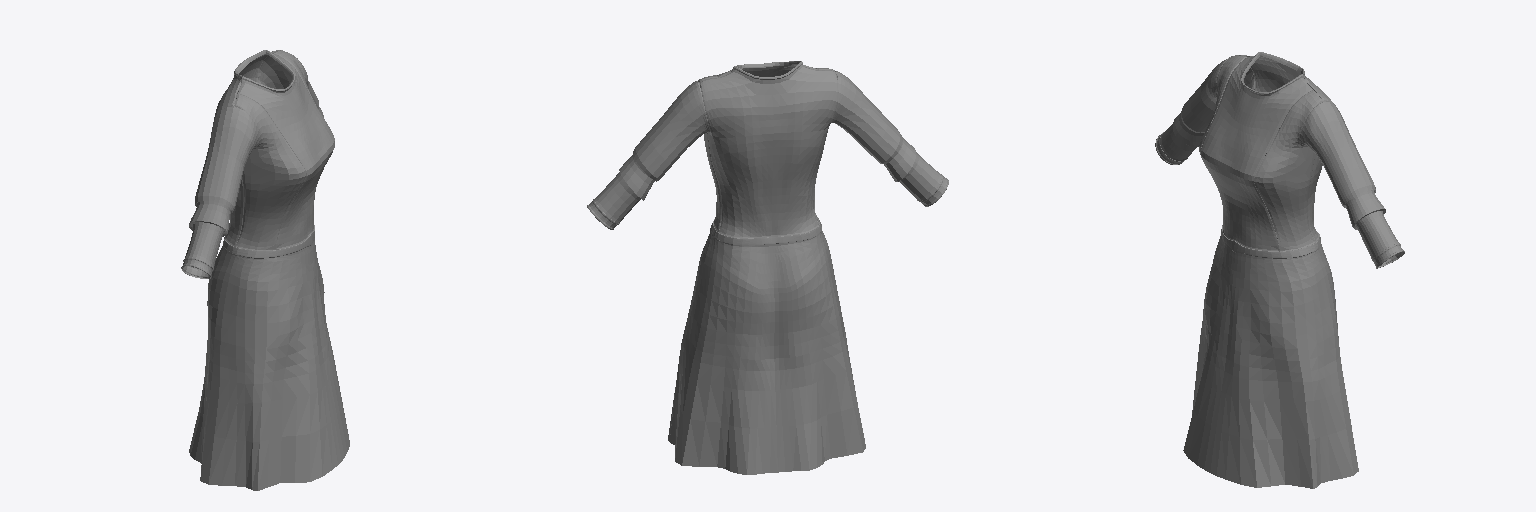
The model's file is vestido.obj.
3 views of the same model, side by side, from view 1: azimuth 30°, elevation 25°; view 2: azimuth 150°, elevation 25°; view 3: azimuth 270°, elevation 25° (orthographic).
Parts seen in each view (by area): view 1: Plane001; view 2: Plane001; view 3: Plane001.
Part boxes in pixels (left/top/right/bottom): Plane001: left=181, top=50, right=349, bottom=490; Plane001: left=587, top=61, right=948, bottom=474; Plane001: left=1155, top=52, right=1404, bottom=488.
Bounding box in the file's own units: 834 × 1220 × 715.